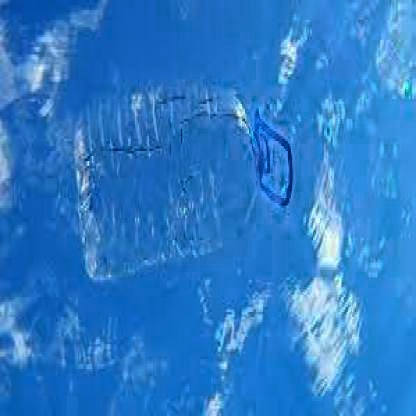pbottle: (67, 77, 300, 287)
